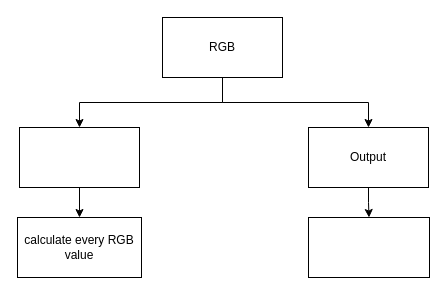
Image size: 447x295. Some labels were removed from this diagram. The centre of each missing label's shape, as x and y in pixels:
print every RGB value: the point at 369,247
Process: the point at 79,157
